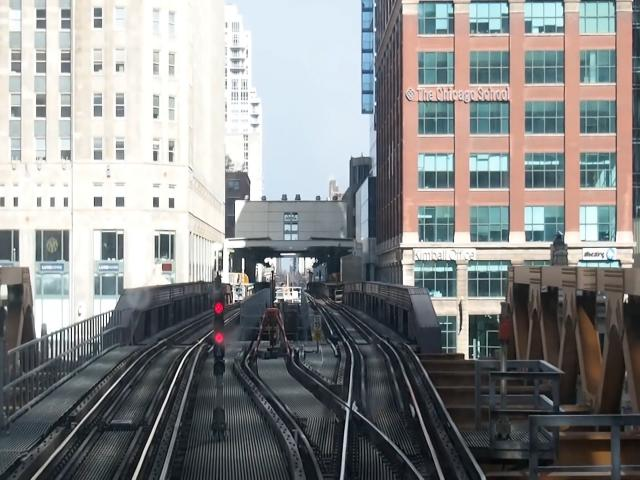signal light: (211, 287, 229, 377)
